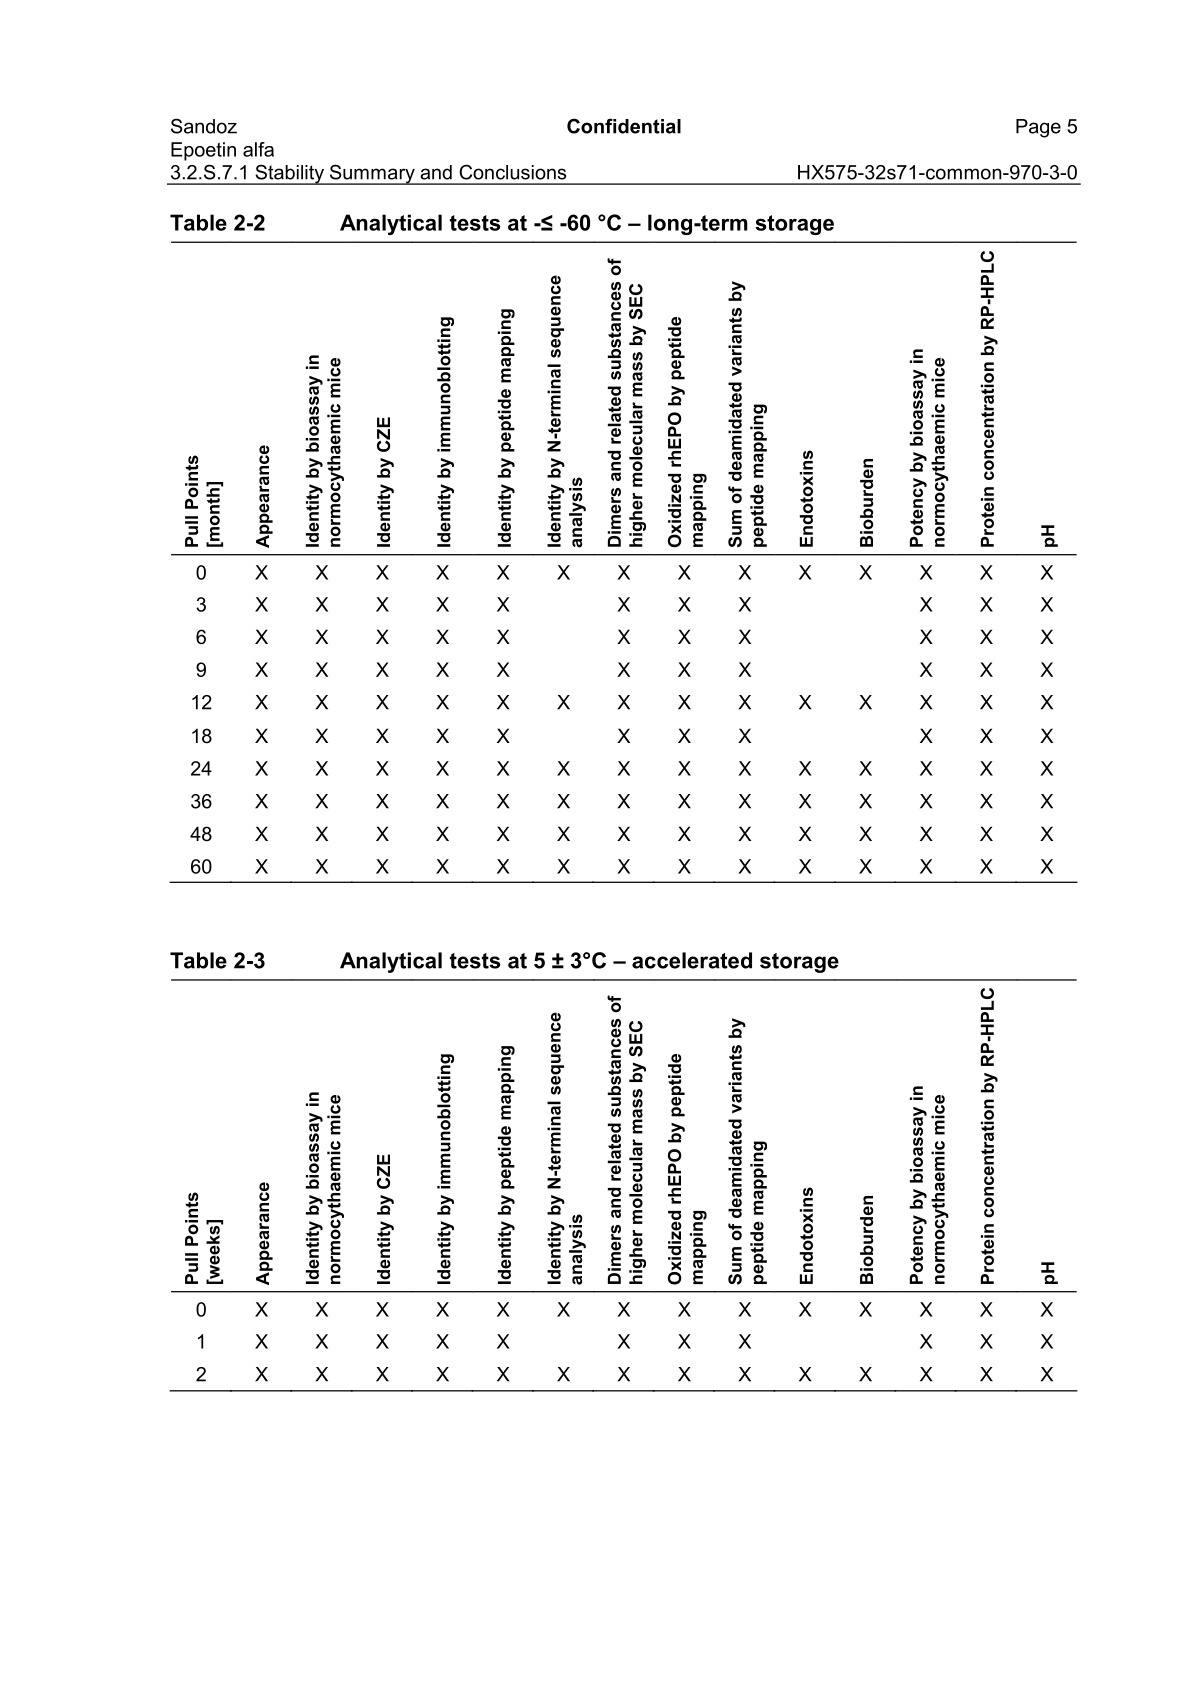partial_lined: (168, 237, 1081, 885), (170, 979, 1078, 1392)
